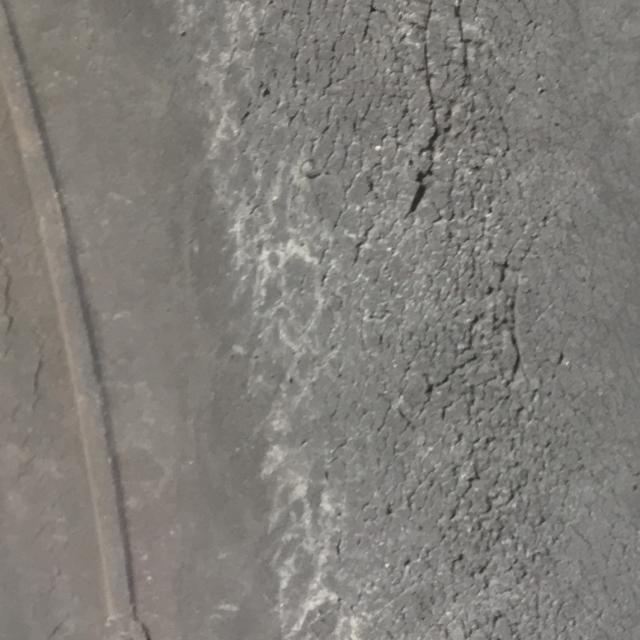Cracks: (203, 0, 639, 639)
Non-defective: (1, 0, 164, 640)
